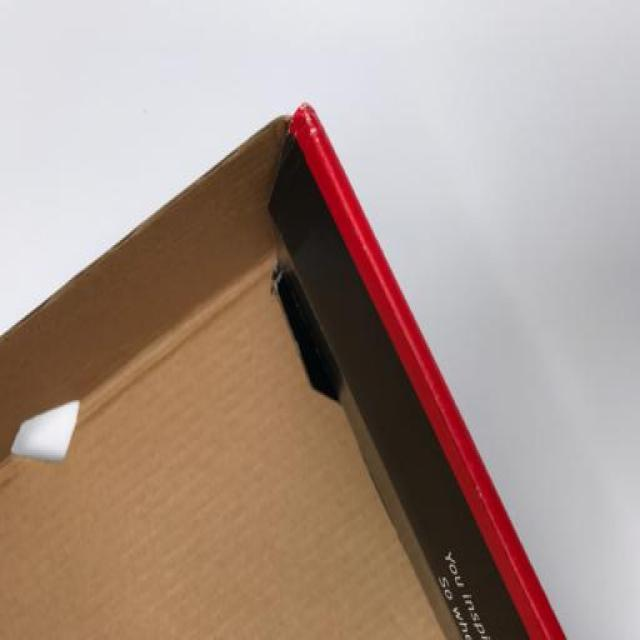Cardboard: (0, 99, 567, 640)
